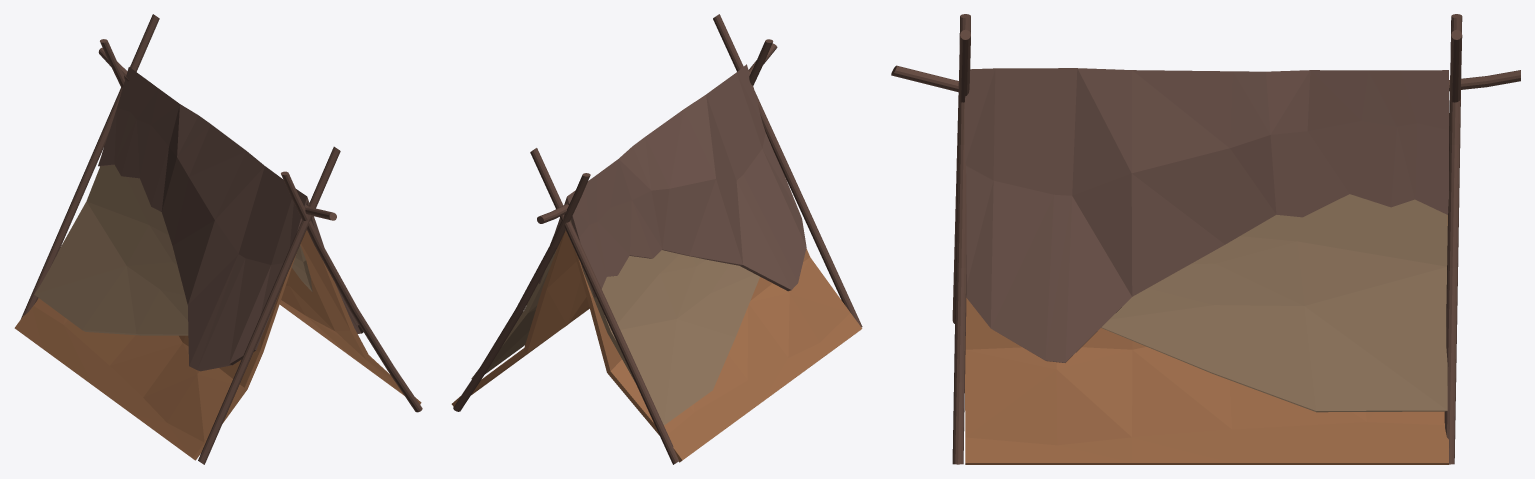
Rendered from SM_tent_large.fbx.
3 views of the same model, side by side, from view 1: azimuth 30°, elevation 25°; view 2: azimuth 150°, elevation 25°; view 3: azimuth 270°, elevation 25° (orthographic). The views are drawn at different scales.
Visible parts, largest first — view 1: tent_large; view 2: tent_large; view 3: tent_large.
Boxes of the visible parts, x1,y1,x2,y2 form: tent_large: (14,14,422,464); tent_large: (451,14,862,464); tent_large: (891,14,1520,464).
Bounding box in the file's own units: 296 × 349 × 519.
